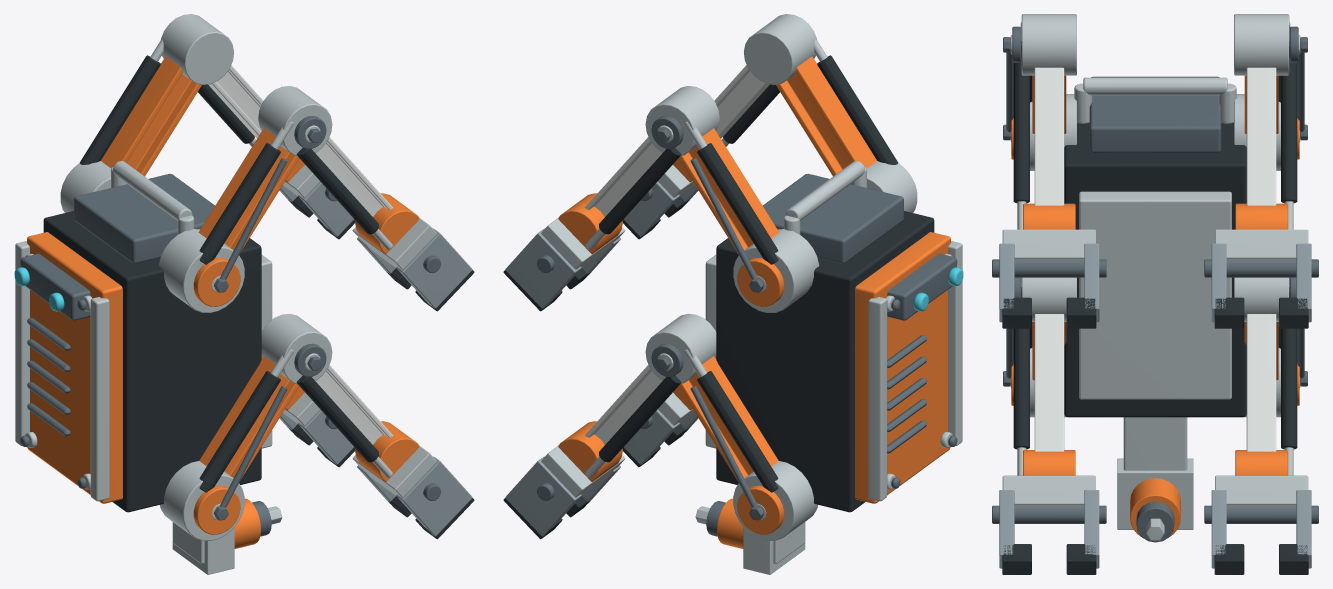
File: climber-robot-climb.glb
The picture shows the model from 3 angles, left to right: view 1: azimuth 30°, elevation 25°; view 2: azimuth 150°, elevation 25°; view 3: azimuth 270°, elevation 25°; orthographic projection. The views are drawn at different scales.
Visible parts, largest first — view 1: BodyHousing_Rubber, BodyHousing_SafetyOrange, BodyHousing_Bolts, BodyHousing_EdgeSteel, fr_UpperLinkGeometry_SafetyOrange, fl_UpperLinkGeometry_SafetyOrange, rl_UpperLinkGeometry_SafetyOrange, fr_LowerLinkGeometry_EdgeSteel, fl_UpperLinkGeometry_EdgeSteel, rl_UpperLinkGeometry_EdgeSteel, fl_LowerLinkGeometry_EdgeSteel, rl_LowerLinkGeometry_EdgeSteel (+26 smaller); view 2: BodyHousing_Rubber, BodyHousing_SafetyOrange, BodyHousing_Bolts, BodyHousing_EdgeSteel, fl_UpperLinkGeometry_SafetyOrange, fr_UpperLinkGeometry_SafetyOrange, rr_UpperLinkGeometry_SafetyOrange, fl_LowerLinkGeometry_EdgeSteel, fr_UpperLinkGeometry_EdgeSteel, rr_UpperLinkGeometry_EdgeSteel, fr_LowerLinkGeometry_EdgeSteel, rr_LowerLinkGeometry_EdgeSteel (+26 smaller); view 3: BodyHousing_EdgeSteel, BodyHousing_Rubber, BodyHousing_Bolts, fl_LowerLinkGeometry_White, fr_LowerLinkGeometry_White, rl_LowerLinkGeometry_White, rr_LowerLinkGeometry_White, fl_LowerLinkGeometry_EdgeSteel, fr_LowerLinkGeometry_EdgeSteel, TorqueTool_EdgeSteel, fl_GripActuator_EdgeSteel, fr_GripActuator_EdgeSteel (+42 smaller).
Part boxes in pixels (bbox=[...]): BodyHousing_Rubber: bbox=[43, 211, 261, 512]; BodyHousing_SafetyOrange: bbox=[27, 232, 122, 503]; BodyHousing_Bolts: bbox=[20, 173, 214, 488]; BodyHousing_EdgeSteel: bbox=[15, 161, 272, 563]; fr_UpperLinkGeometry_SafetyOrange: bbox=[101, 56, 201, 176]; fl_UpperLinkGeometry_SafetyOrange: bbox=[193, 128, 299, 306]; rl_UpperLinkGeometry_SafetyOrange: bbox=[193, 356, 299, 534]; fr_LowerLinkGeometry_EdgeSteel: bbox=[161, 14, 255, 146]; fl_UpperLinkGeometry_EdgeSteel: bbox=[158, 121, 320, 312]; rl_UpperLinkGeometry_EdgeSteel: bbox=[160, 349, 320, 540]; fl_LowerLinkGeometry_EdgeSteel: bbox=[258, 86, 392, 249]; rl_LowerLinkGeometry_EdgeSteel: bbox=[261, 313, 392, 477]; BodyHousing_Rubber: bbox=[716, 211, 934, 512]; BodyHousing_SafetyOrange: bbox=[855, 232, 950, 503]; BodyHousing_Bolts: bbox=[763, 173, 957, 488]; BodyHousing_EdgeSteel: bbox=[705, 161, 962, 563]; fl_UpperLinkGeometry_SafetyOrange: bbox=[776, 56, 876, 176]; fr_UpperLinkGeometry_SafetyOrange: bbox=[678, 128, 784, 306]; rr_UpperLinkGeometry_SafetyOrange: bbox=[678, 356, 784, 534]; fl_LowerLinkGeometry_EdgeSteel: bbox=[722, 14, 816, 146]; fr_UpperLinkGeometry_EdgeSteel: bbox=[657, 121, 819, 312]; rr_UpperLinkGeometry_EdgeSteel: bbox=[657, 349, 817, 540]; fr_LowerLinkGeometry_EdgeSteel: bbox=[585, 86, 719, 249]; rr_LowerLinkGeometry_EdgeSteel: bbox=[585, 313, 716, 477]; BodyHousing_EdgeSteel: bbox=[1074, 77, 1236, 470]; BodyHousing_Rubber: bbox=[1064, 123, 1246, 417]; BodyHousing_Bolts: bbox=[1089, 76, 1221, 152]; fl_LowerLinkGeometry_White: bbox=[1034, 67, 1064, 205]; fr_LowerLinkGeometry_White: bbox=[1246, 67, 1276, 205]; rl_LowerLinkGeometry_White: bbox=[1034, 314, 1064, 451]; rr_LowerLinkGeometry_White: bbox=[1246, 314, 1276, 451]; fl_LowerLinkGeometry_EdgeSteel: bbox=[1017, 14, 1076, 229]; fr_LowerLinkGeometry_EdgeSteel: bbox=[1234, 14, 1293, 229]; TorqueTool_EdgeSteel: bbox=[1117, 458, 1193, 540]; fl_GripActuator_EdgeSteel: bbox=[1002, 229, 1095, 262]; fr_GripActuator_EdgeSteel: bbox=[1215, 229, 1308, 262].
Size of the model in its own units: 1.08 by 1.37 by 0.77.
